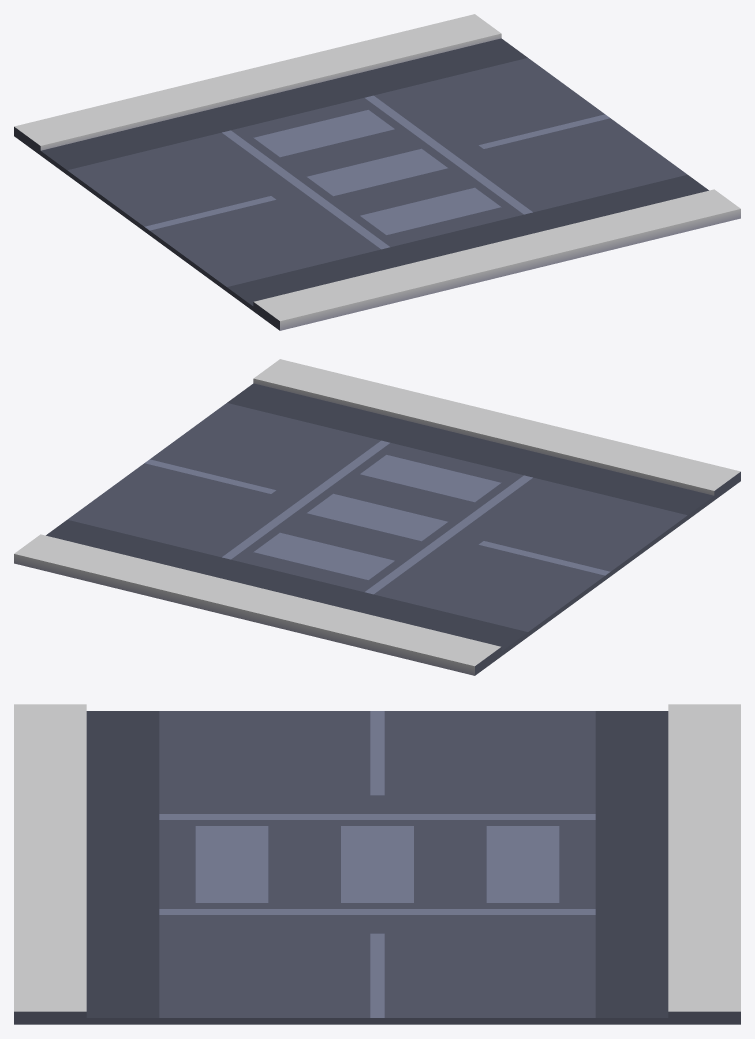
The model's file is road-crossing.glb.
3 views of the same model, one above another, from view 1: azimuth 30°, elevation 25°; view 2: azimuth 150°, elevation 25°; view 3: azimuth 270°, elevation 25° (orthographic). The views are drawn at different scales.
Visible parts, largest first — view 1: road-crossing; view 2: road-crossing; view 3: road-crossing.
Boxes of the visible parts, box(x1,y1,x2,y2) form: road-crossing: box(14, 14, 740, 330); road-crossing: box(14, 359, 740, 675); road-crossing: box(14, 704, 740, 1024).
Size of the model in its own units: 1 by 0.02 by 1.
